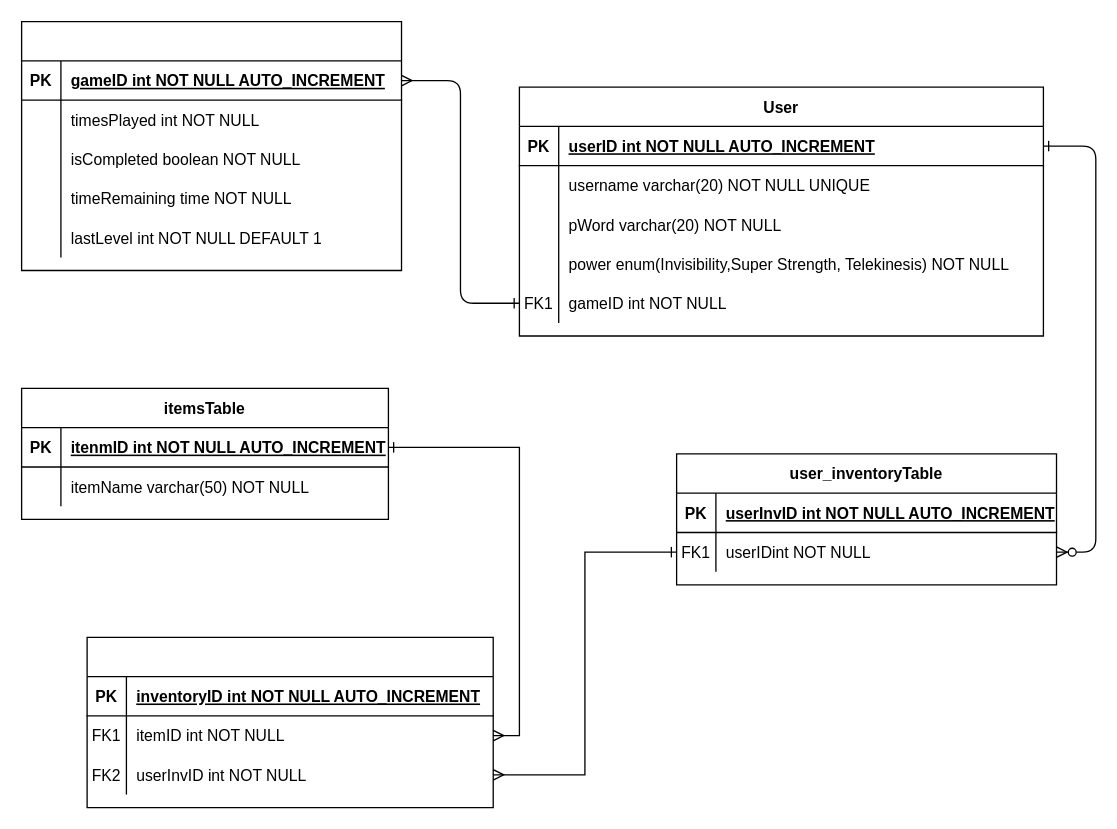
Image size: 1117x829. Some labels were removed from this diagram. Here are the shapes that lost their labels. From the top down, the box of each, then its label:
(20, 20, 402, 271): gameTable
(86, 636, 493, 808): inventoryTable
